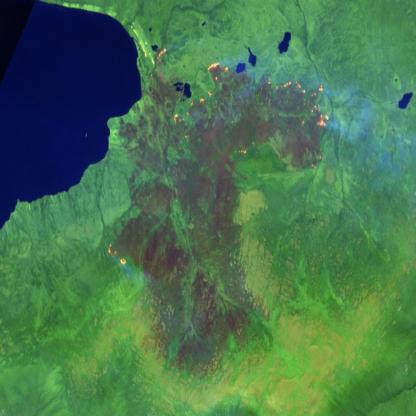fire: (151, 43, 332, 130), (102, 238, 132, 276)
